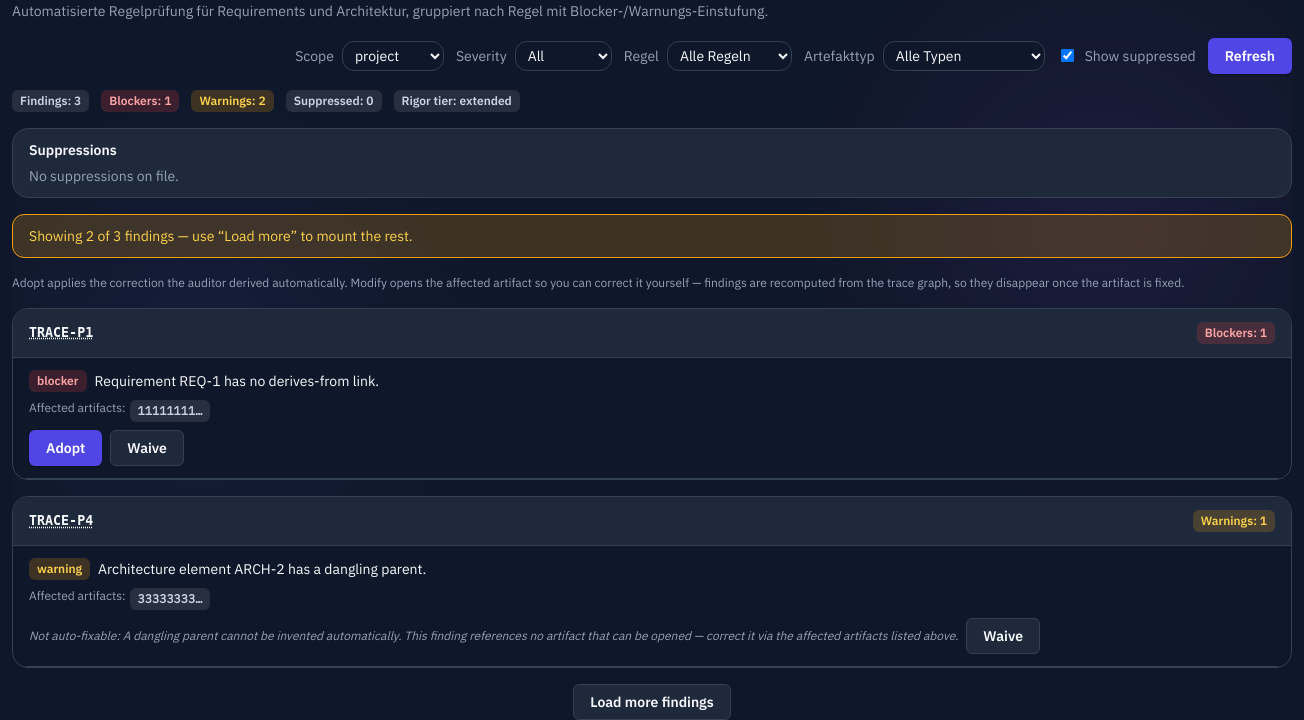
AuditDashboard — paged findings (#596) › dedupes an appended window by finding_key, not by positional index (#1383)
The image size is (1304, 720).
(page scrolled)
Step 1. Click the button with test id "audit-load-more-btn" → [652, 702], box [573, 684, 731, 719]
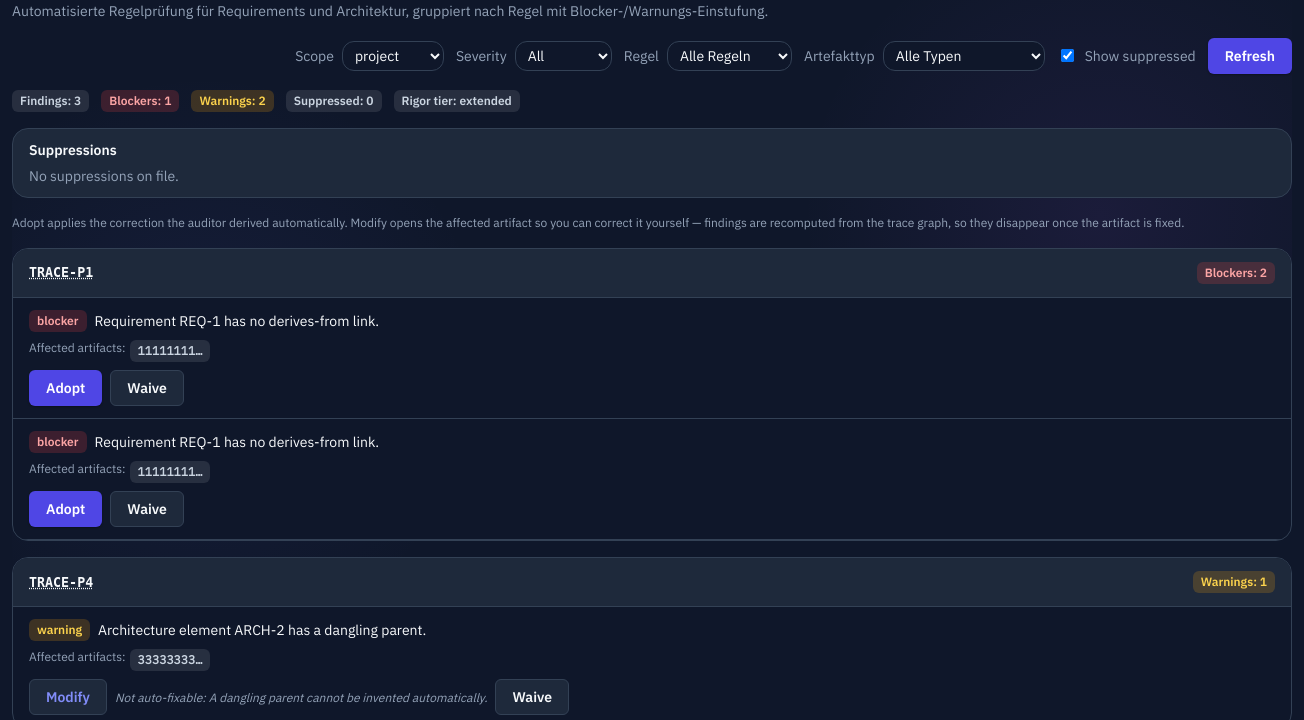
Expected: the list item with test id "audit-finding-8" is shown, [13, 419, 1291, 540]
Expected: the text "Architecture element ARCH-2 has a dangling parent." is shown once, [98, 621, 426, 639]
